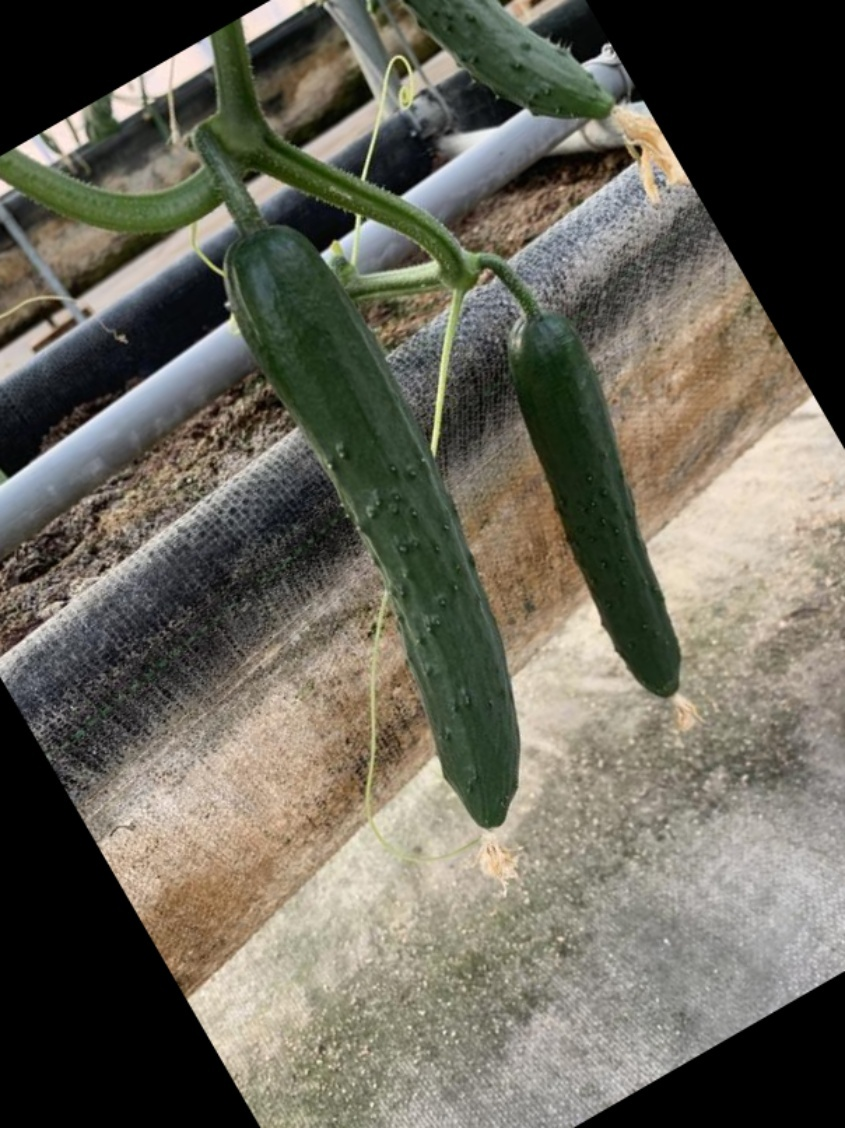mature: (248, 217, 533, 867), (505, 304, 688, 708)
